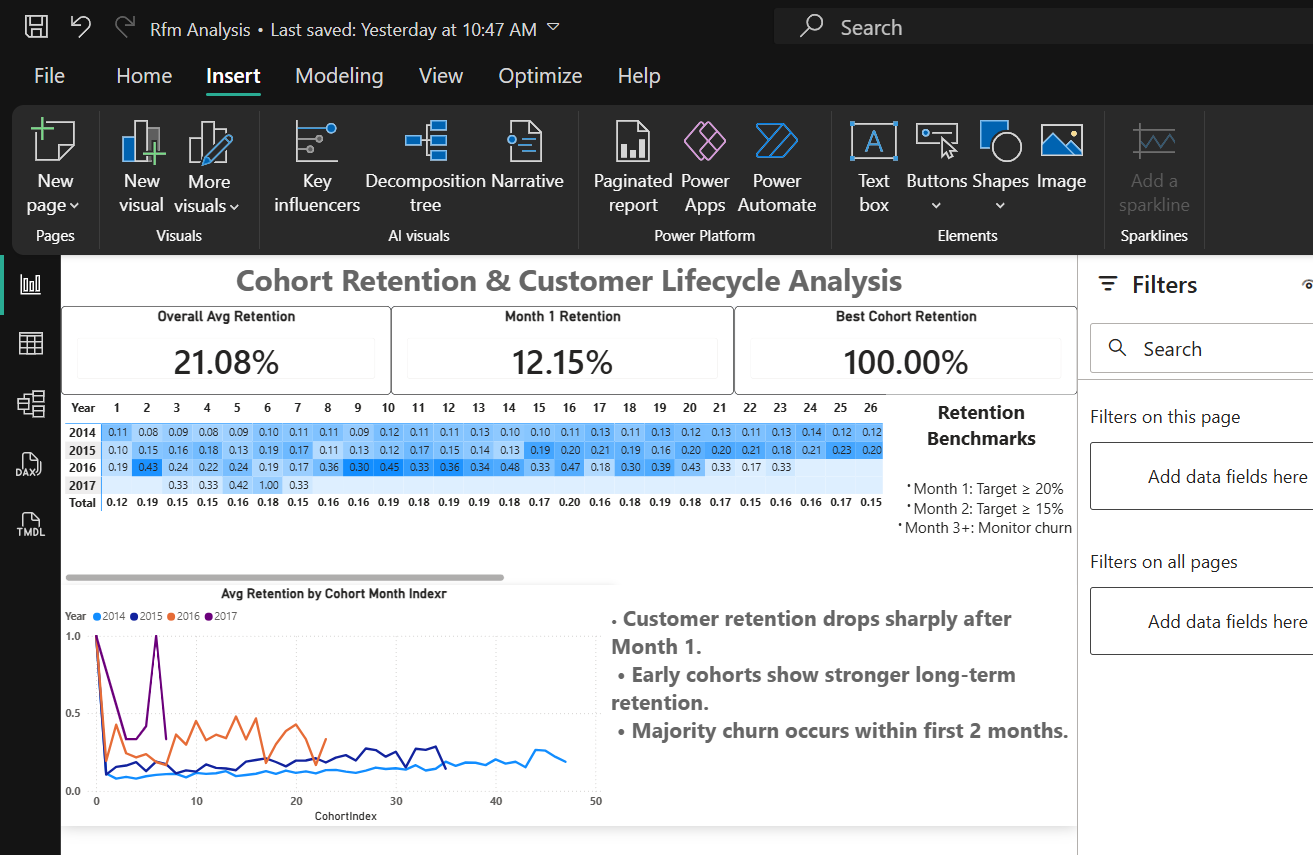

The dashboard page shown, as its layout file describes it:
{"tool":"powerbi","page":{"name":"Page 2","canvas":[1280,720],"ordinal":1},"visuals":[{"type":"pivotTable","fields":{"Rows":["cohort_retention.cohort_month.Variation.Date Hierarchy.Year","cohort_retention.cohort_month.Variation.Date Hierarchy.Month"],"Columns":["cohort_retention.CohortIndex"],"Values":["Avg(cohort_retention.RetentionRate)"]},"box":[0,176,1040,240],"z":0},{"type":"cardVisual","title":"Overall Avg Retention","fields":{"Data":["cohort_retention.Overall Retention"]},"box":[0,64,416,112],"z":1000},{"type":"cardVisual","title":"Month 1 Retention","fields":{"Data":["cohort_retention.Month 1 Retention"]},"box":[416,64,432,112],"z":2000},{"type":"cardVisual","title":"Best Cohort Retention","fields":{"Data":["cohort_retention.Best Cohort Retention"]},"box":[848,64,432,112],"z":3000},{"type":"lineChart","title":"Avg Retention by Cohort Month Indexr","fields":{"Category":["cohort_retention.CohortIndex"],"Y":["Avg(cohort_retention.RetentionRate)"],"Series":["cohort_retention.cohort_month.Variation.Date Hierarchy.Year"]},"box":[0,416,688,304],"z":4000},{"type":"textbox","box":[0,0,1280,64],"z":5000},{"type":"textbox","box":[1040,176,240,240],"z":6000},{"type":"shape","box":[800,176,240,240],"z":6001},{"type":"shape","box":[688,416,592,304],"z":6002},{"type":"textbox","box":[688,416,592,304],"z":6003}]}

Visuals, with their boxes on the page's 1280x720 design canvas (x1, y1, x2, y2). These are canvas units, not pixel positions in the 1313x855 screenshot, which may show the page scaled, cropped or inside an application window:
pivotTable - cohort_retention.cohort_month.Variation.Date Hierarchy.Year x cohort_retention.cohort_month.Variation.Date Hierarchy.Month: x1=0, y1=176, x2=1040, y2=416
"Overall Avg Retention" cardVisual: x1=0, y1=64, x2=416, y2=176
"Month 1 Retention" cardVisual: x1=416, y1=64, x2=848, y2=176
"Best Cohort Retention" cardVisual: x1=848, y1=64, x2=1280, y2=176
"Avg Retention by Cohort Month Indexr" lineChart: x1=0, y1=416, x2=688, y2=720
textbox: x1=0, y1=0, x2=1280, y2=64
textbox: x1=1040, y1=176, x2=1280, y2=416
shape: x1=800, y1=176, x2=1040, y2=416
shape: x1=688, y1=416, x2=1280, y2=720
textbox: x1=688, y1=416, x2=1280, y2=720
